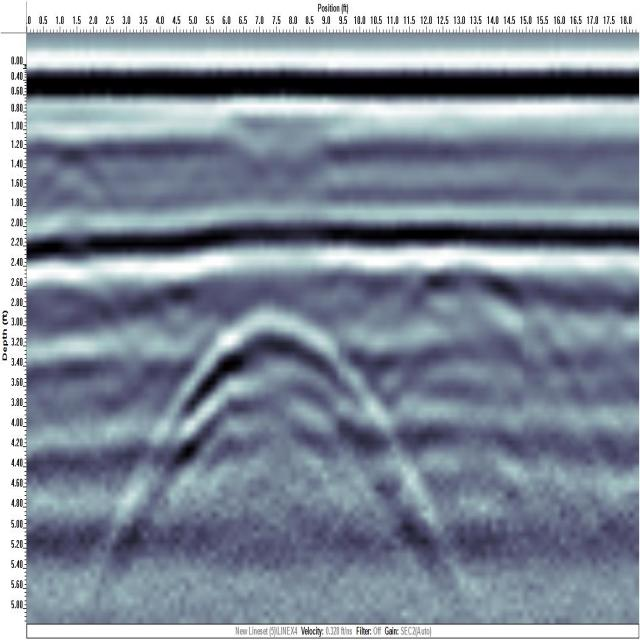hyperbola: (148, 299, 403, 492)
